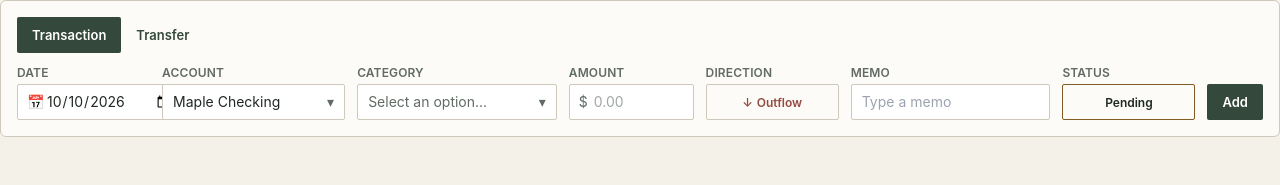
TransactionEntryForm › explains missing entry fields before attempting a mutation
What coordinates should you click on to do the following:
click the button "Add"
I would click on:
 (1235, 102)
Its box is [1208,84,1263,120].
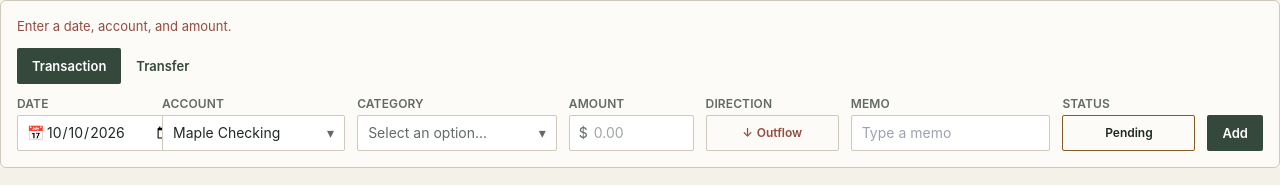
Check: the message "Enter a date, account, and amount." is shown, box [17,18,232,34]
